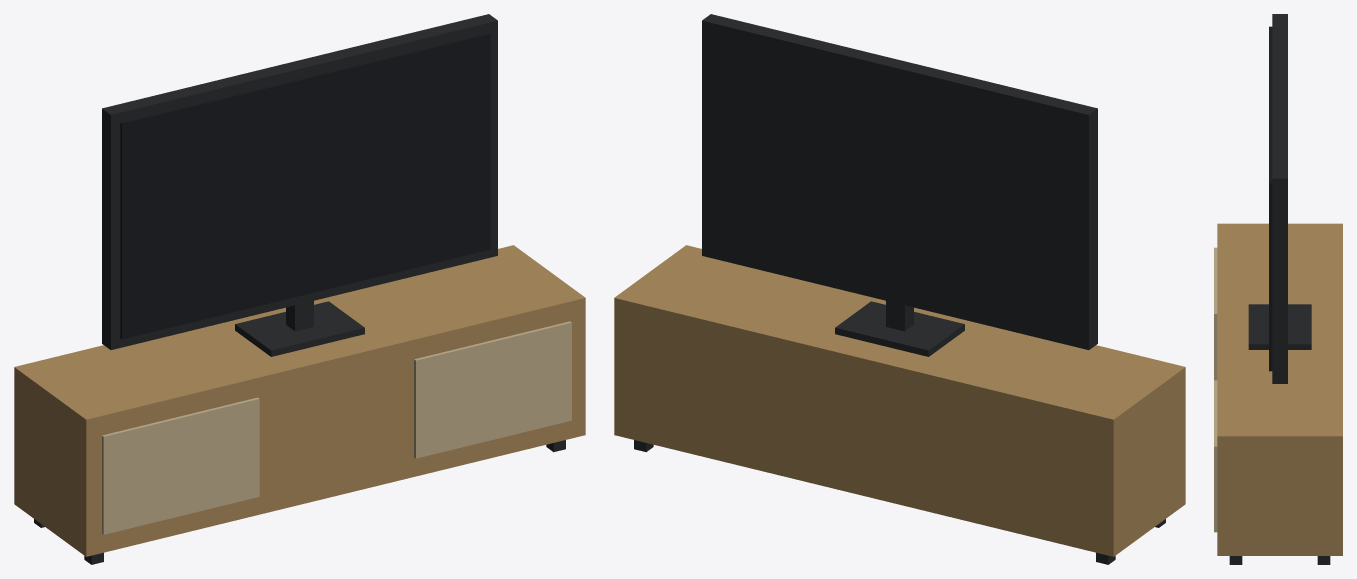
File: tv_unit.glb
The picture shows the model from 3 angles, left to right: view 1: azimuth 30°, elevation 25°; view 2: azimuth 150°, elevation 25°; view 3: azimuth 270°, elevation 25°; orthographic projection. The views are drawn at different scales.
Parts seen in each view (by area): view 1: tv_unit; view 2: tv_unit; view 3: tv_unit.
Boxes of the visible parts, <box> form: tv_unit: <box>14,14,585,564</box>; tv_unit: <box>614,14,1185,564</box>; tv_unit: <box>1214,14,1342,564</box>.
Size of the model in its own units: 1.6 by 1.29 by 0.41.
